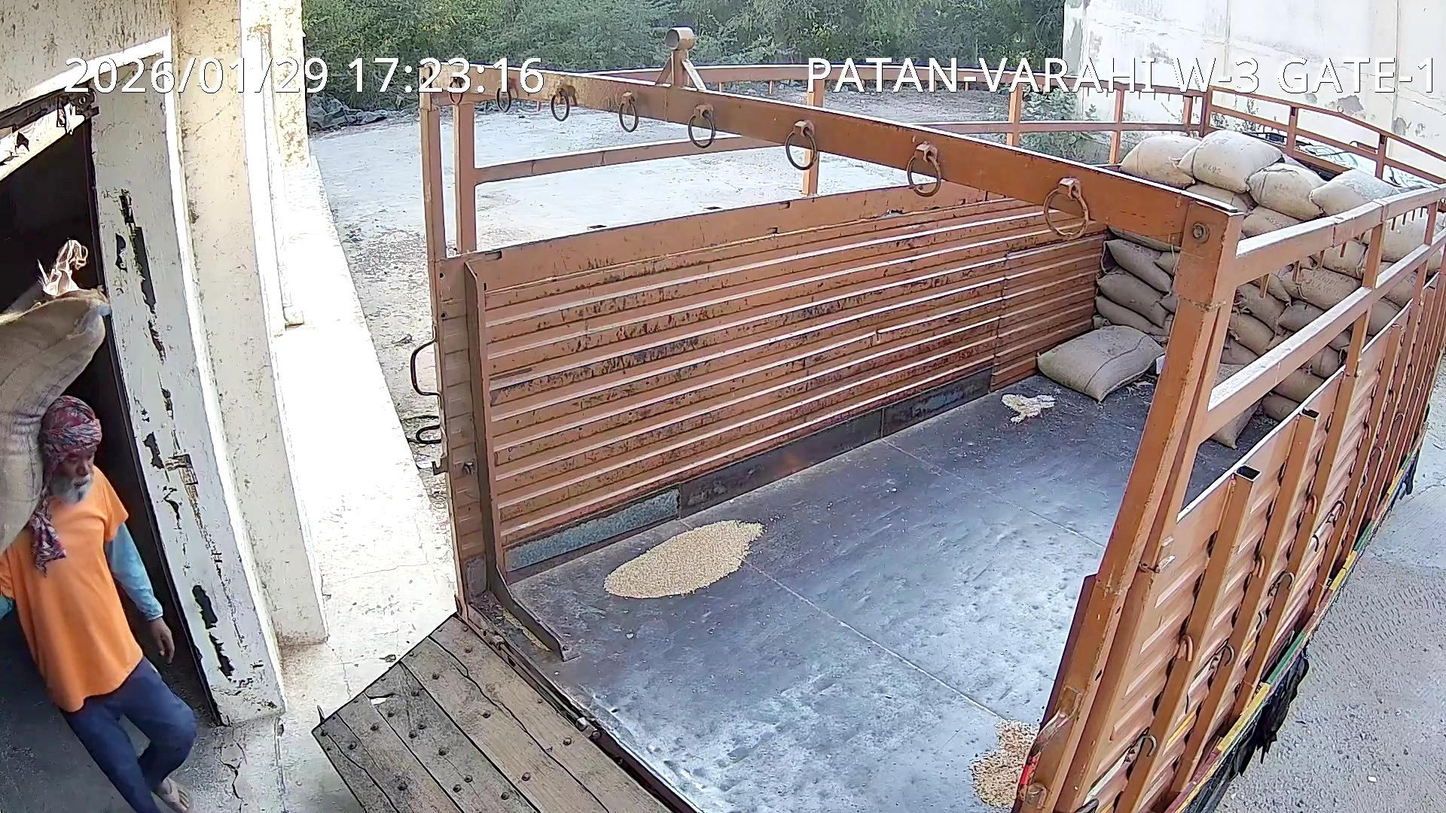Sack: (0, 291, 108, 551)
